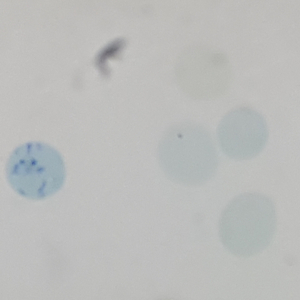aggregate reticulocyte: (3, 141, 67, 202)
erythrocyte: (216, 190, 279, 260), (215, 106, 270, 163)
punctate reticulocyte: (156, 119, 223, 186)
